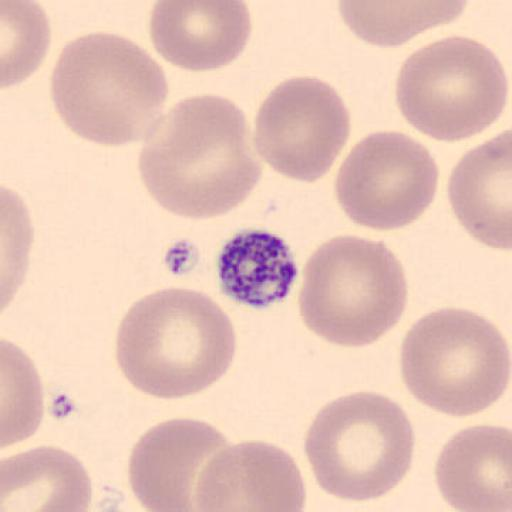Platelet: (213, 226, 300, 310)
RBC: (138, 92, 263, 221), (48, 28, 171, 150), (113, 284, 238, 401), (296, 232, 410, 349), (302, 388, 416, 503), (398, 306, 512, 420), (394, 34, 509, 144), (252, 73, 352, 185), (332, 129, 440, 232), (126, 414, 231, 512), (191, 437, 308, 512), (446, 127, 512, 251), (148, 1, 254, 74), (434, 422, 512, 512), (336, 0, 472, 48), (2, 443, 93, 512), (2, 339, 44, 449), (2, 0, 52, 92), (0, 183, 34, 316)
